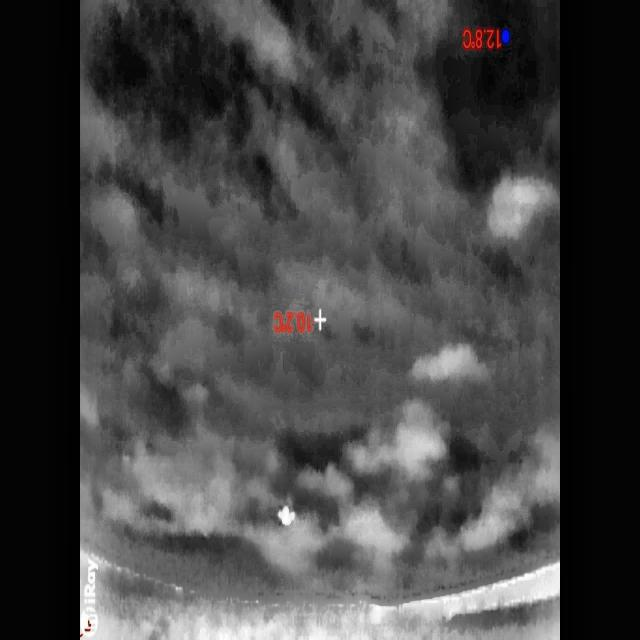drone: (277, 501, 297, 530)
